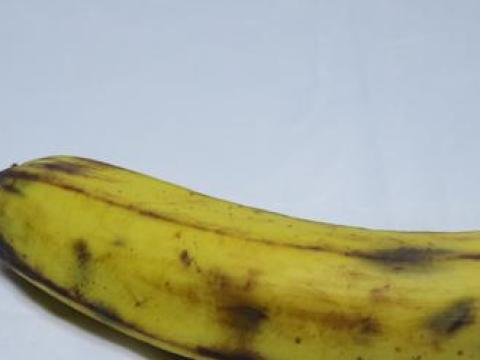overripe: (0, 143, 479, 359)
